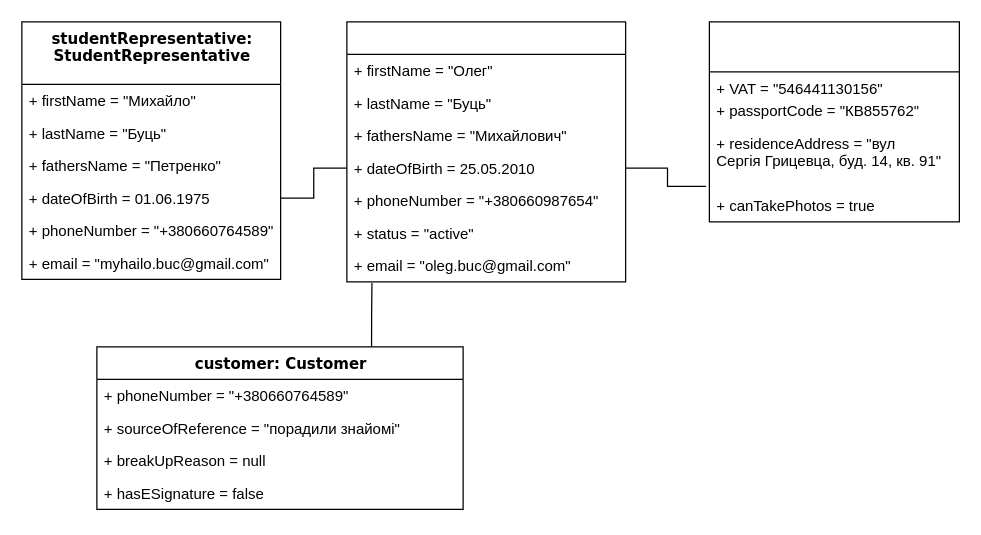
This 981x535 diagram has some shape labels left out. The box of each missing label's shape, as (x1, y1, x2, y2) in pixels:
personalInformation: PersonalInformation: (708, 21, 959, 222)
student: Student: (346, 21, 626, 282)
